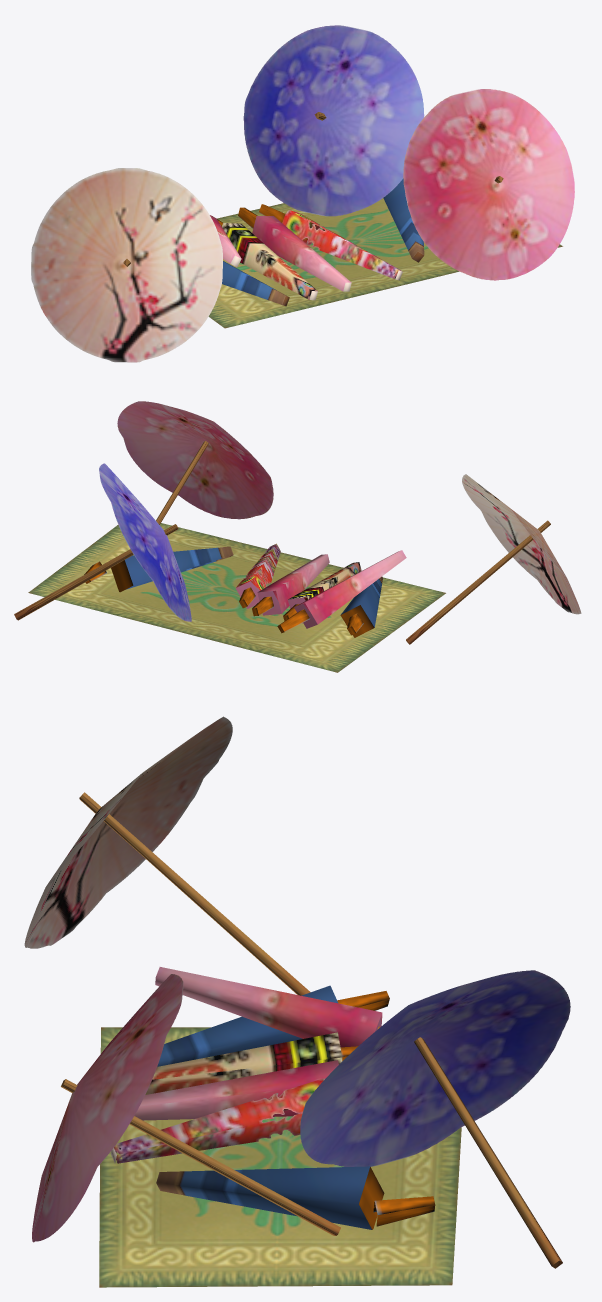
File: szc_object_santan.FBX
3 renders of one model, top to bottom at view 1: azimuth 30°, elevation 25°; view 2: azimuth 150°, elevation 25°; view 3: azimuth 270°, elevation 25°, orthographic. The views are drawn at different scales.
Parts seen in each view (by area): view 1: szc_object_santan; view 2: szc_object_santan; view 3: szc_object_santan.
Boxes of the visible parts, x1,y1,x2,y2 form: szc_object_santan: (31,25,574,362); szc_object_santan: (14,401,581,672); szc_object_santan: (24,716,570,1287).
Bounding box in the file's own units: 4.99 × 1.39 × 2.93.
